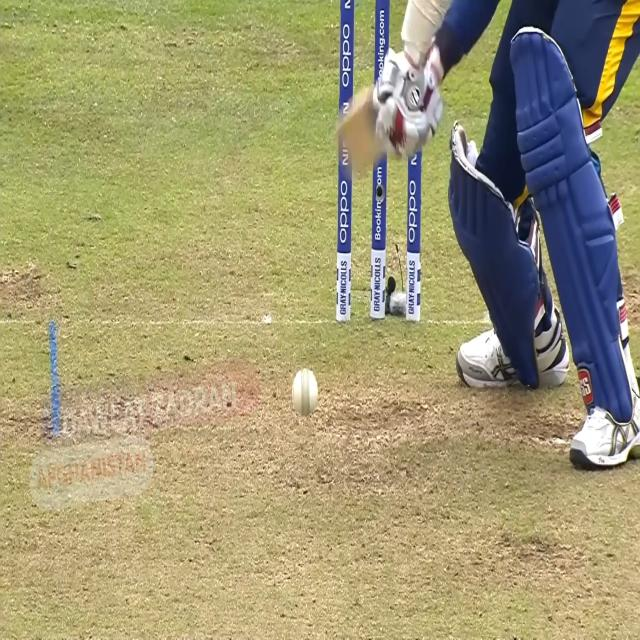ball: (291, 365, 323, 422)
